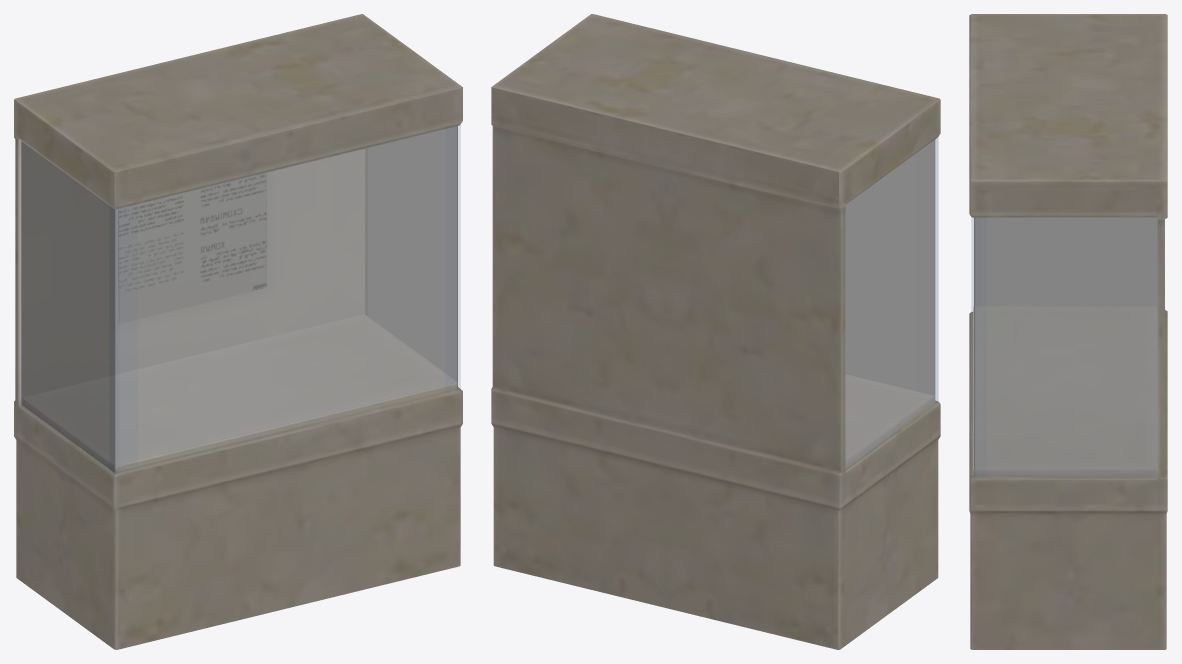
3 views of the same model, side by side, from view 1: azimuth 30°, elevation 25°; view 2: azimuth 150°, elevation 25°; view 3: azimuth 270°, elevation 25° (orthographic).
Size of the model in its own units: 20 by 26.17 by 10.
Materials: 4 (4 with a texture image).
